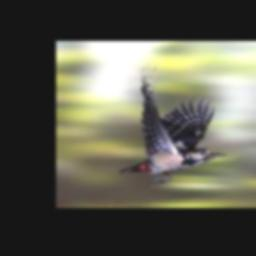Woodpecker: (118, 63, 227, 184)
